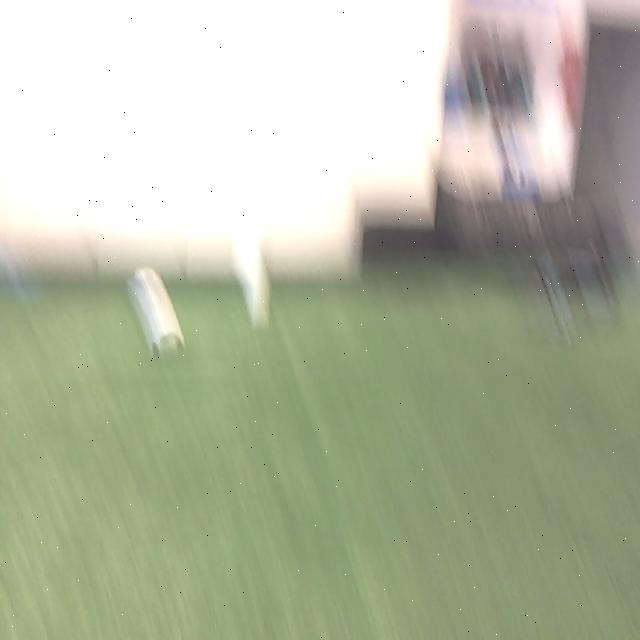ball: (127, 267, 185, 361)
